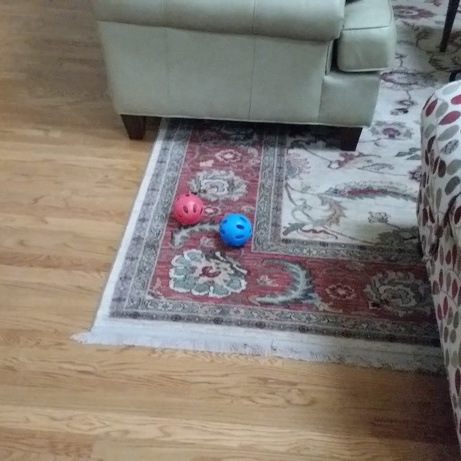blueball: (215, 211, 255, 246)
redball: (171, 190, 204, 225)
